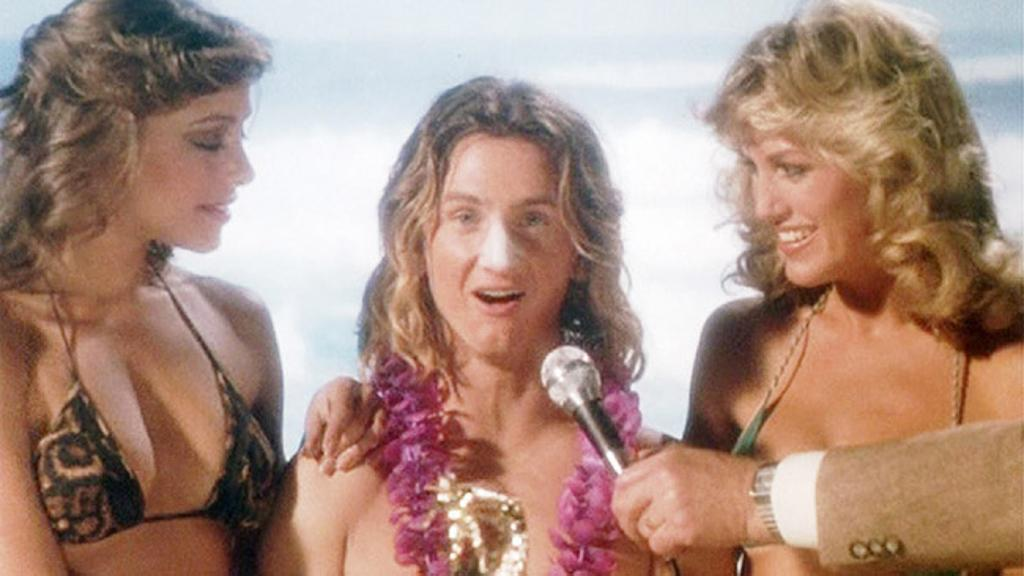face: (428, 134, 574, 352), (748, 94, 900, 288), (128, 52, 254, 256)
